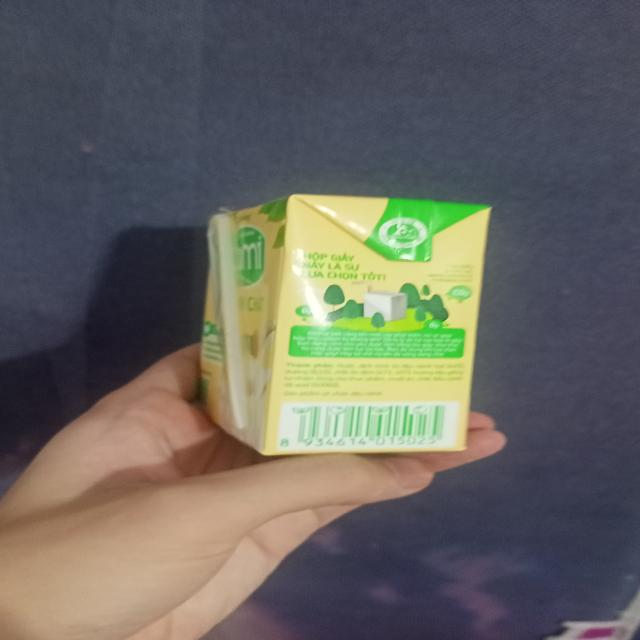Fami: (208, 196, 493, 450)
